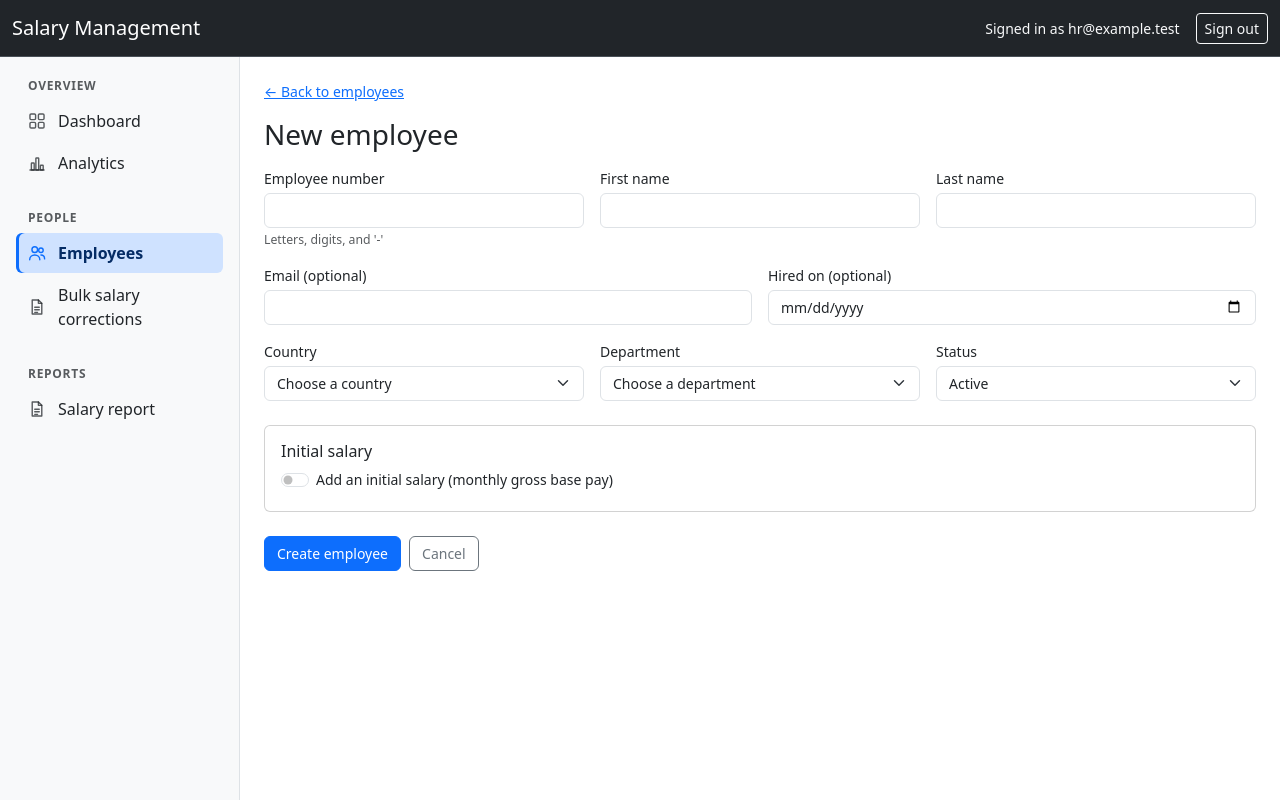
EmployeeCreatePage › creates an employee and opens their page with a notice
expect the heading "New employee" is shown: met, box x1=264 y1=115 x2=458 y2=153
Type "EMP-10001" into the field labelled "Employee number" at point(424, 210), box x1=264 y1=193 x2=584 y2=228
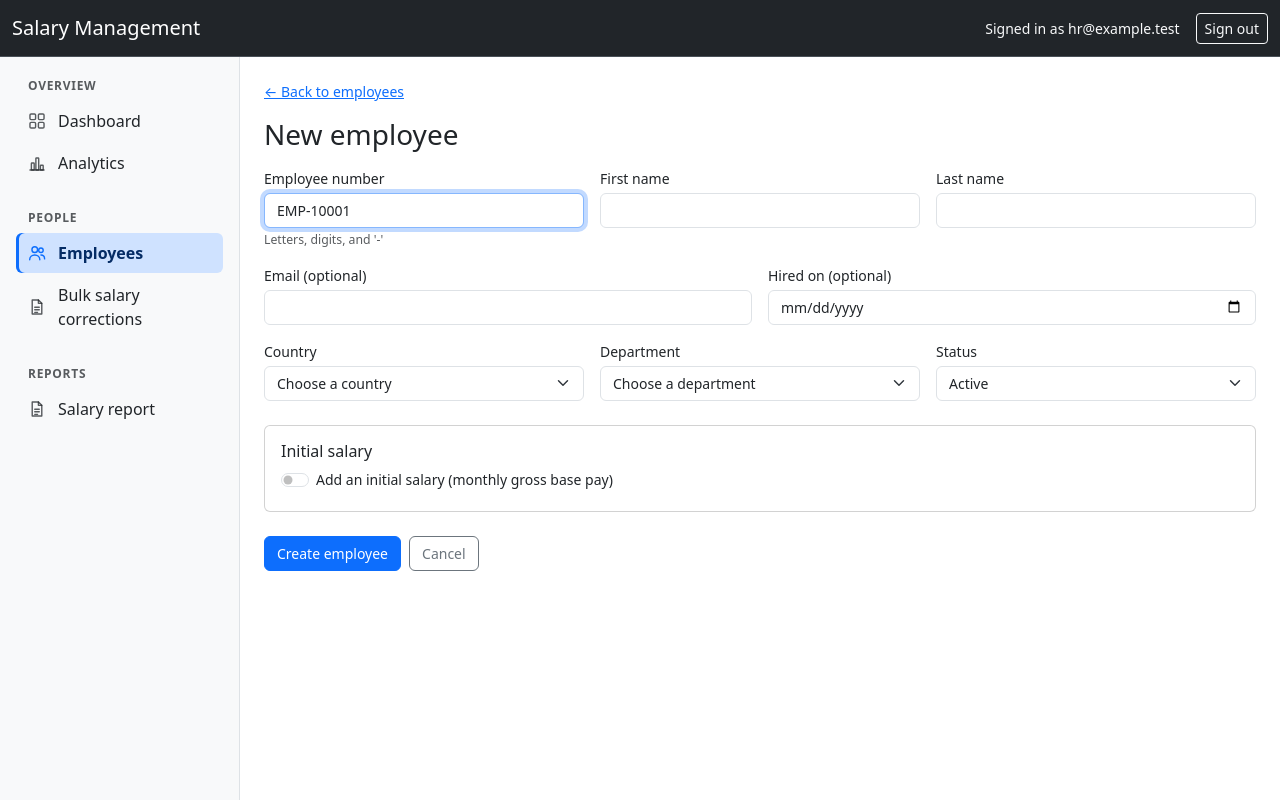
Type "Asha" into the field labelled "First name" at point(760, 210), box x1=600 y1=193 x2=920 y2=228
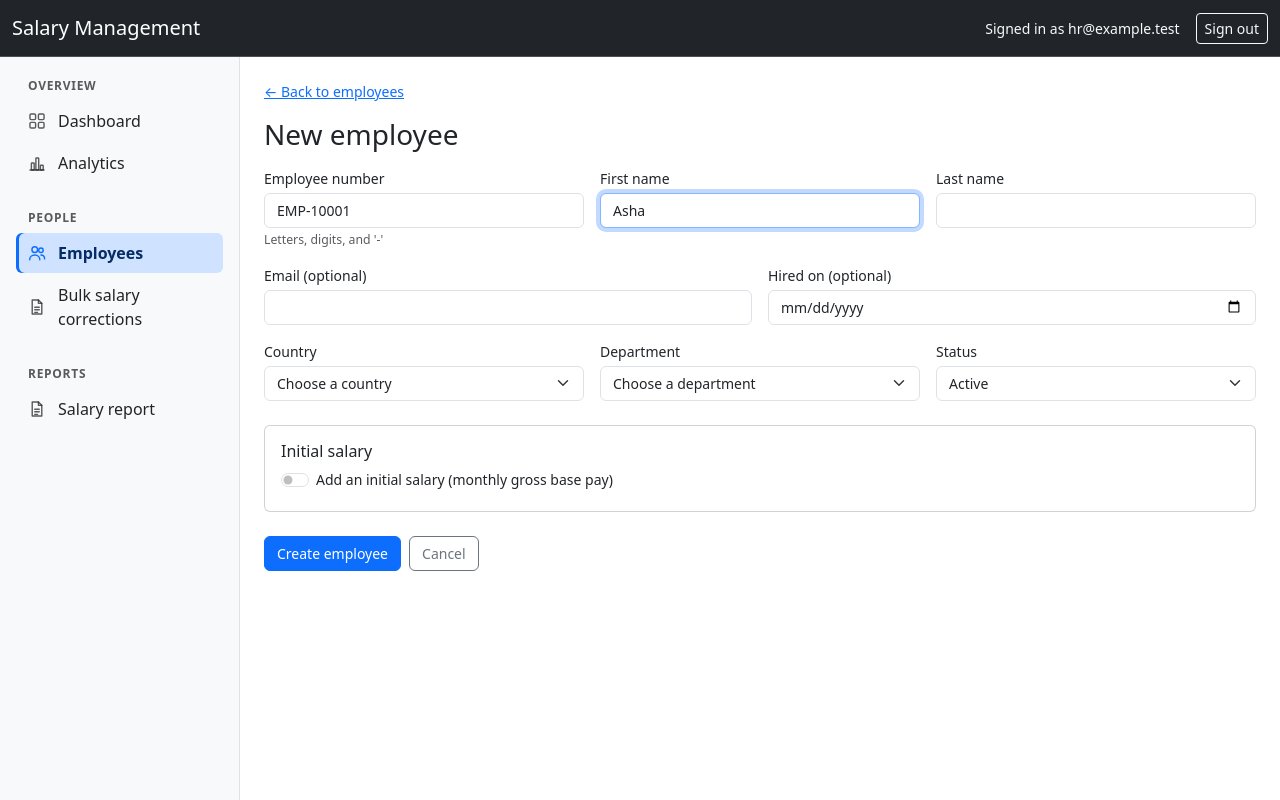
Type "Rao" into the field labelled "Last name" at point(1096, 210), box x1=936 y1=193 x2=1256 y2=228
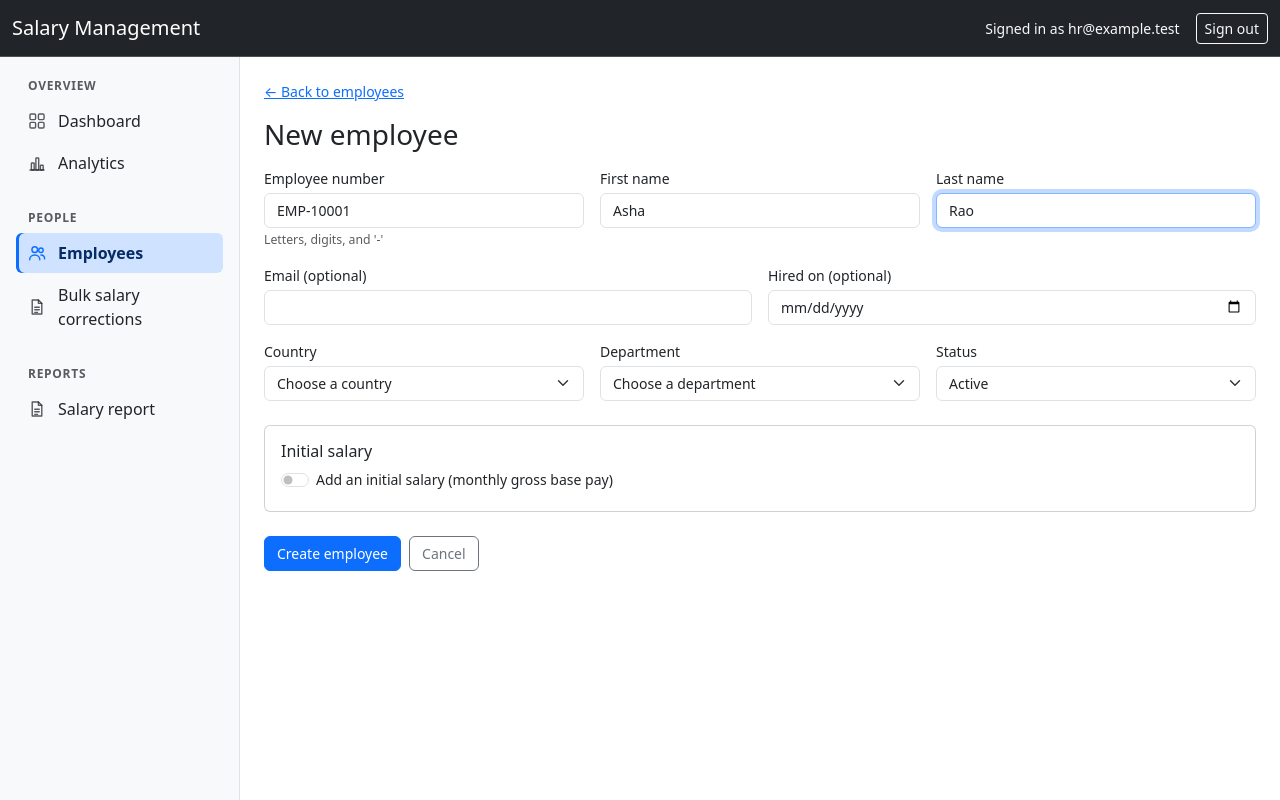
Select "India" in the dropdown labelled "Country" at point(424, 384), box x1=264 y1=366 x2=584 y2=401
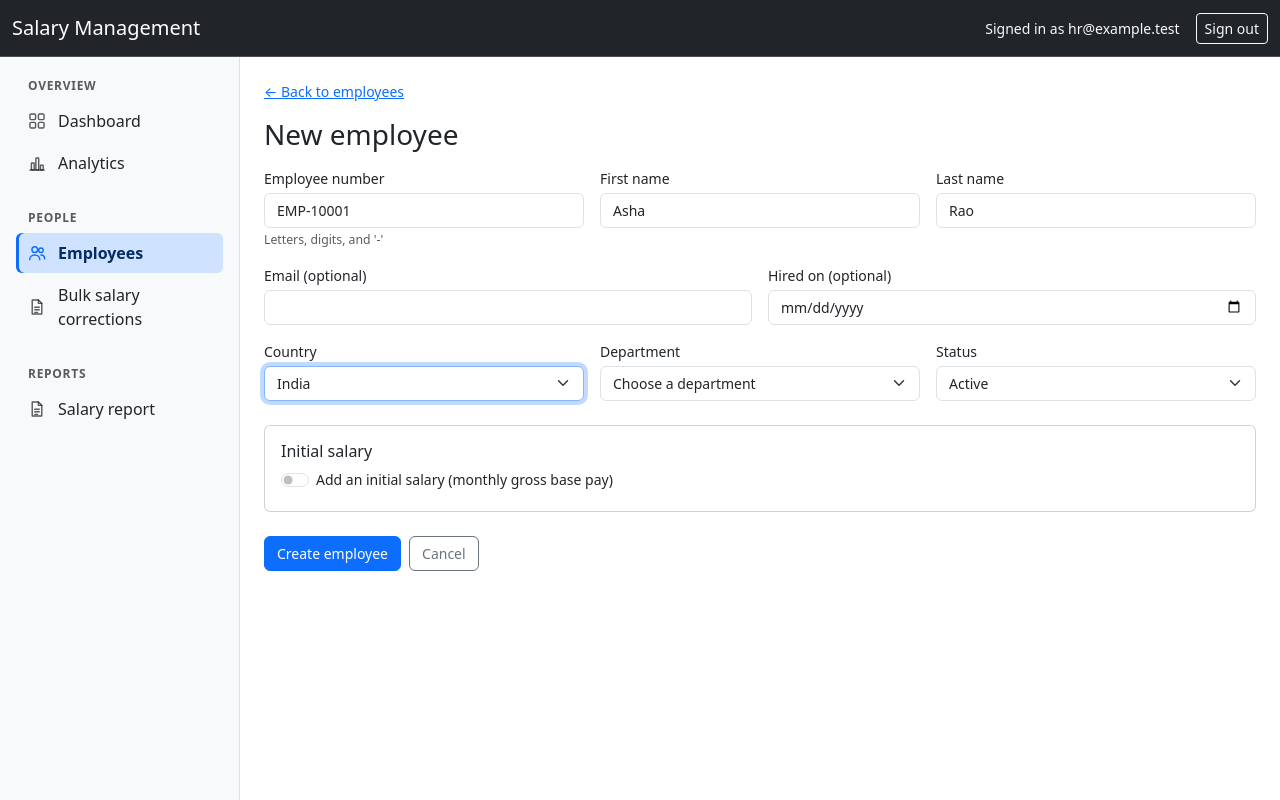
Select "Engineering" in the dropdown labelled "Department" at point(760, 384), box x1=600 y1=366 x2=920 y2=401
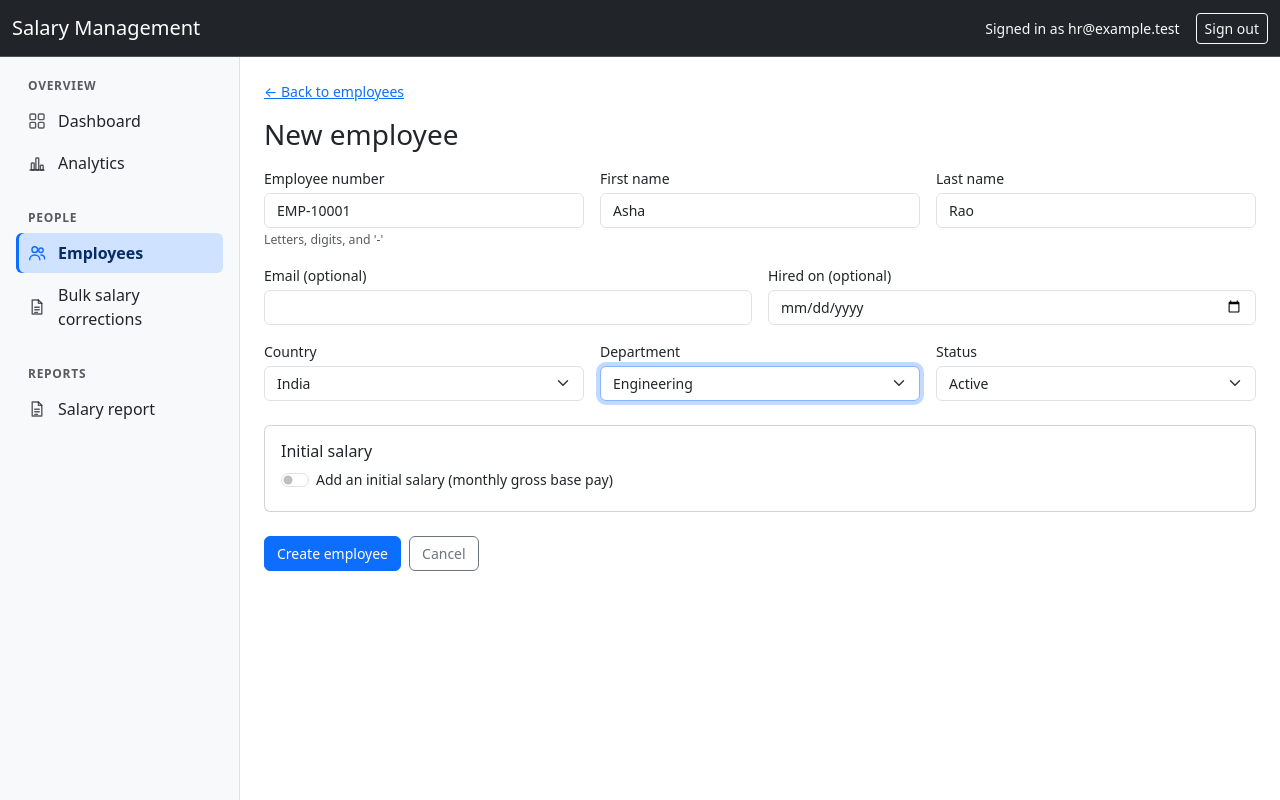
Click the button "Create employee" at point(332, 554), box x1=264 y1=536 x2=401 y2=571
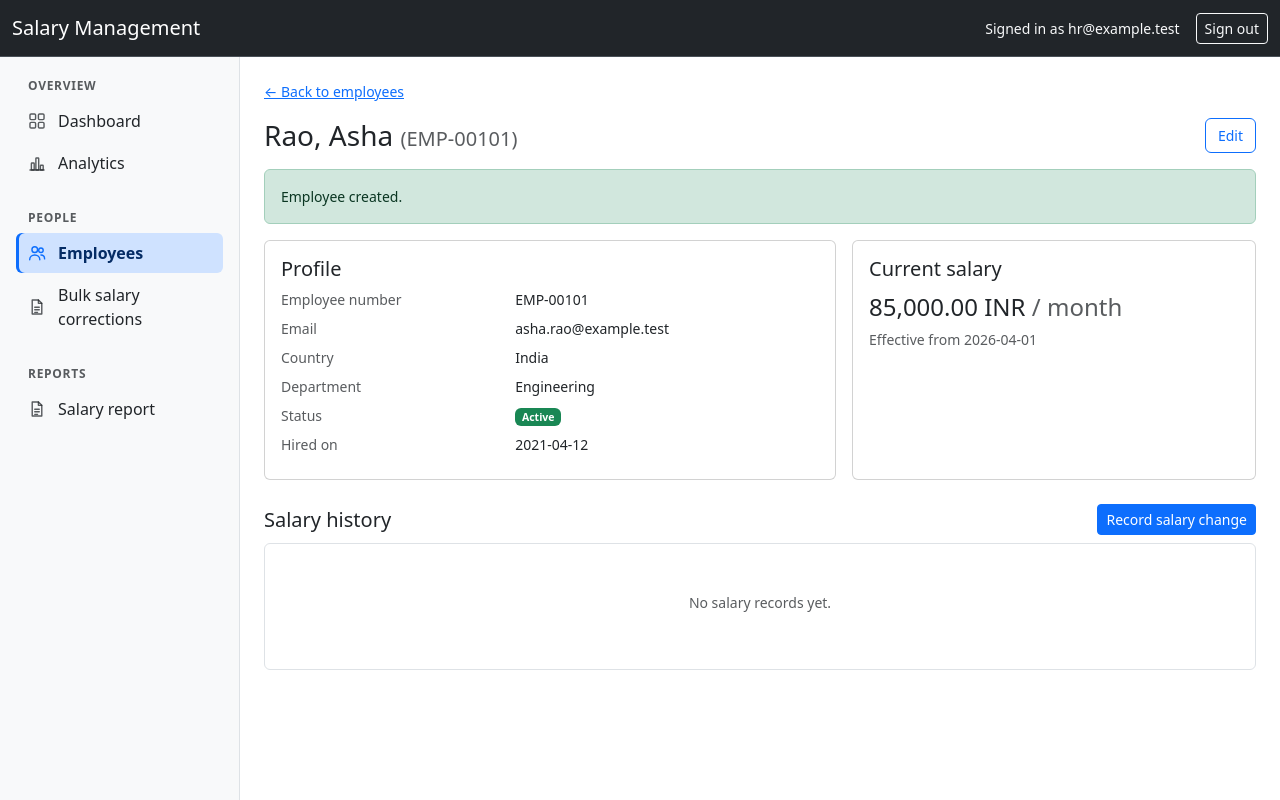
expect the text "Employee created." is shown: met, box x1=264 y1=169 x2=1256 y2=224
